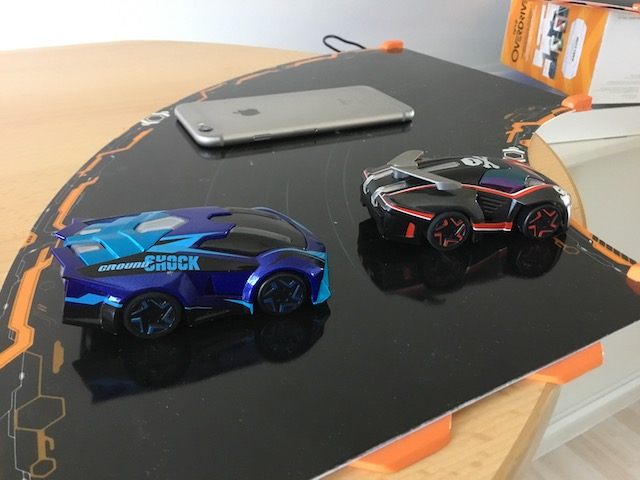car-blue: (47, 200, 336, 343)
car-red: (356, 145, 573, 257)
phone: (170, 83, 416, 152)
